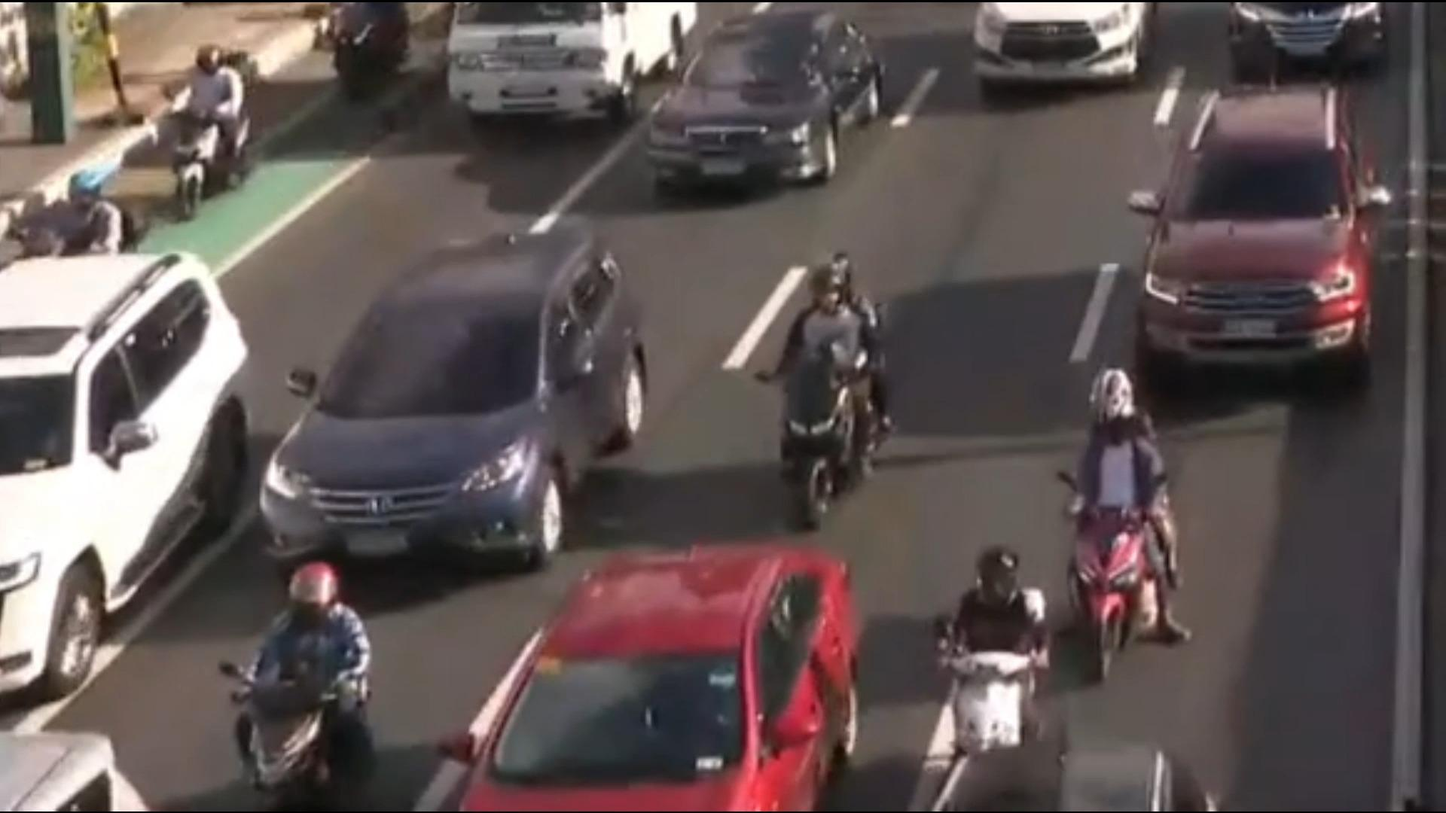Motorcycle: (742, 224, 942, 538), (1066, 345, 1232, 679), (209, 557, 403, 804), (930, 525, 1078, 750), (146, 25, 296, 227), (0, 157, 138, 274), (317, 0, 415, 119)
Multicab: (430, 0, 704, 153)
SUV: (204, 230, 673, 580), (0, 234, 253, 688), (1119, 74, 1411, 405)
Sedan: (404, 542, 895, 813), (624, 6, 906, 209)
